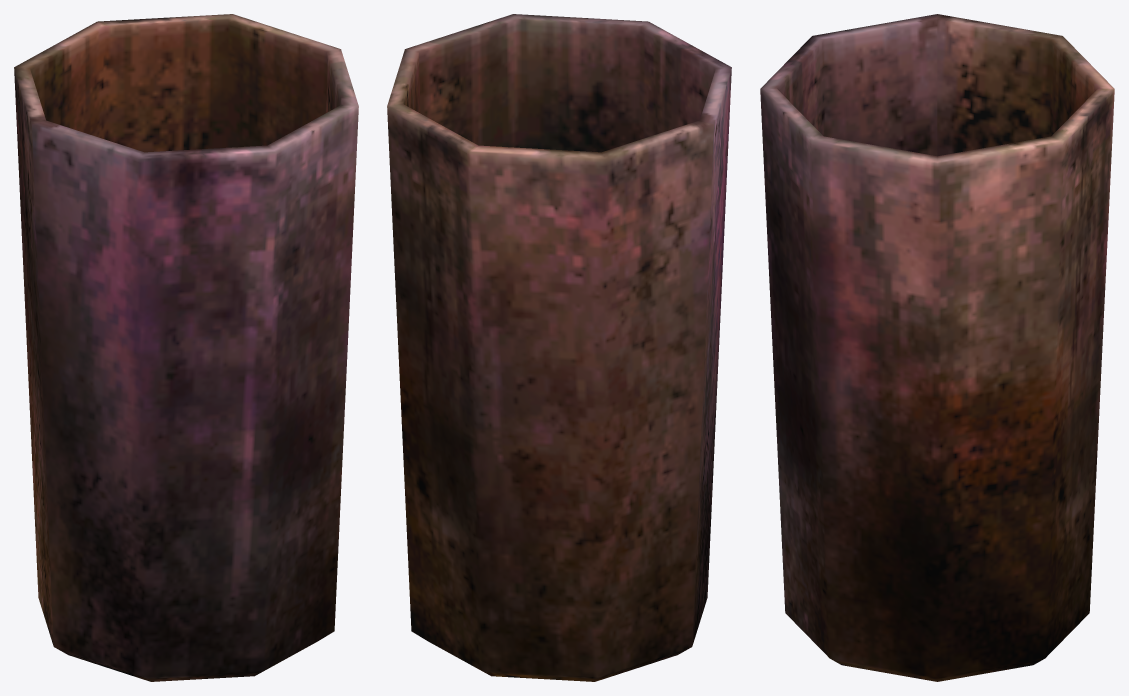
Rendered from bathRoom16.FBX.
3 views of the same model, side by side, from view 1: azimuth 30°, elevation 25°; view 2: azimuth 150°, elevation 25°; view 3: azimuth 270°, elevation 25° (orthographic).
Parts seen in each view (by area): view 1: SM_Bathroom16; view 2: SM_Bathroom16; view 3: SM_Bathroom16.
Boxes of the visible parts, bbox=[...] form: SM_Bathroom16: bbox=[14, 14, 358, 681]; SM_Bathroom16: bbox=[387, 14, 731, 681]; SM_Bathroom16: bbox=[760, 14, 1114, 681].
Bounding box in the file's own units: 9.49 × 15.85 × 9.49.
1 material, 1 textured.
